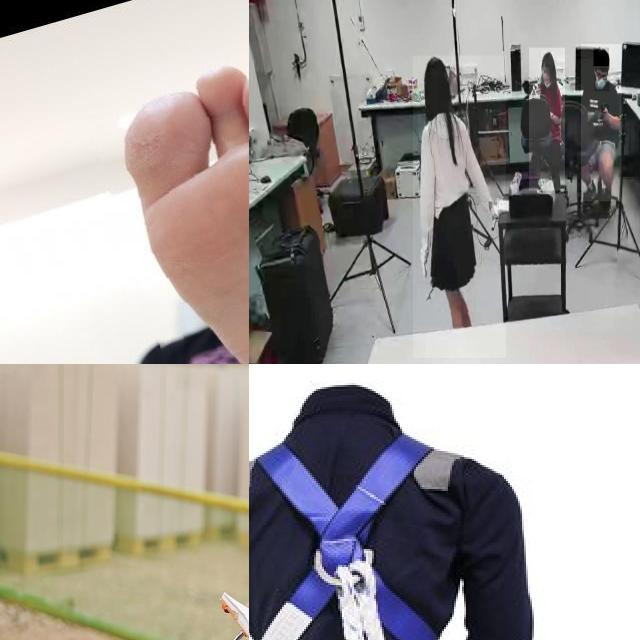Barefoots: (115, 48, 249, 364)
Harness: (249, 432, 454, 640)
face_mask: (594, 68, 610, 91)
face_nomask: (542, 67, 550, 85)
hand_glove: (416, 236, 432, 285), (488, 196, 501, 229)
hand_noglove: (601, 105, 609, 123)
head_nohelmet: (423, 56, 447, 77), (594, 48, 610, 67), (541, 50, 555, 66)
person: (413, 55, 507, 358), (581, 44, 622, 202), (529, 47, 565, 192)
